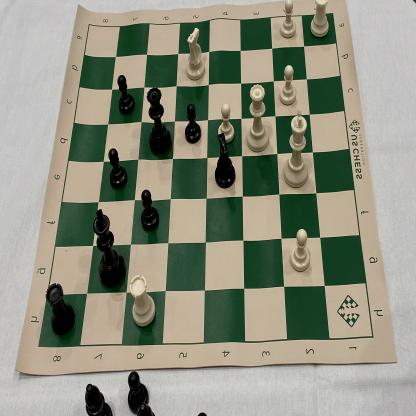black-king: (90, 208, 126, 290)
black-knight: (212, 134, 238, 191)
black-pawn: (106, 146, 129, 190), (139, 187, 160, 232), (182, 102, 203, 146), (116, 73, 135, 116)
black-queen: (144, 84, 173, 158)
black-rook: (46, 278, 74, 336)
white-king: (282, 108, 312, 188)
white-knight: (185, 25, 206, 83)
white-pawn: (290, 228, 314, 274), (216, 102, 237, 144), (278, 63, 298, 107), (279, 0, 298, 39)
white-queen: (243, 83, 272, 154)
white-rook: (130, 271, 157, 329), (307, 0, 332, 41)
